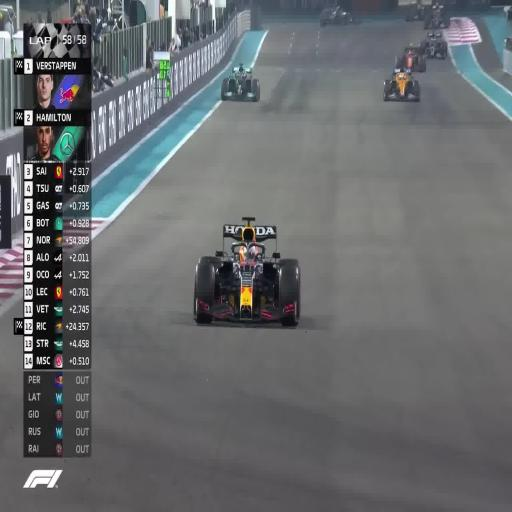f1_car: (193, 217, 300, 325), (221, 63, 259, 101), (383, 68, 420, 101), (395, 43, 426, 72), (320, 5, 355, 26), (424, 2, 450, 28), (422, 31, 447, 58), (405, 0, 425, 21)
